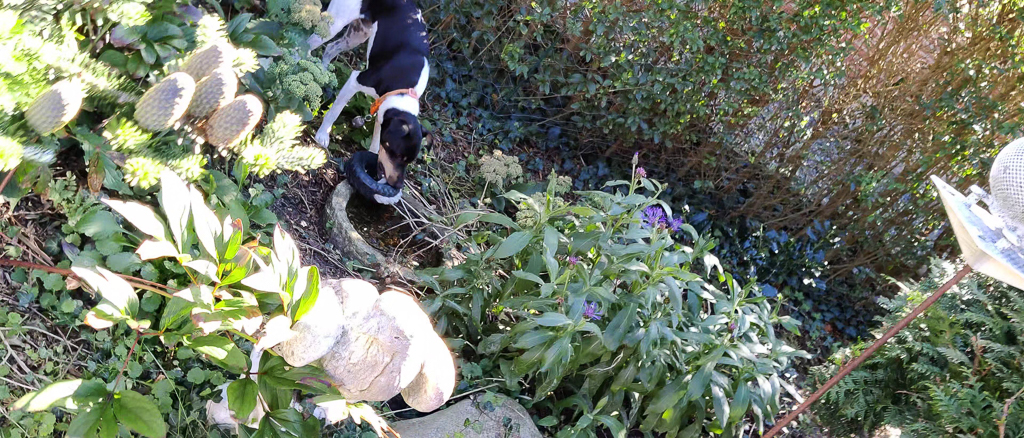Dog: (294, 0, 443, 201)
Eagle: (200, 263, 473, 438)
